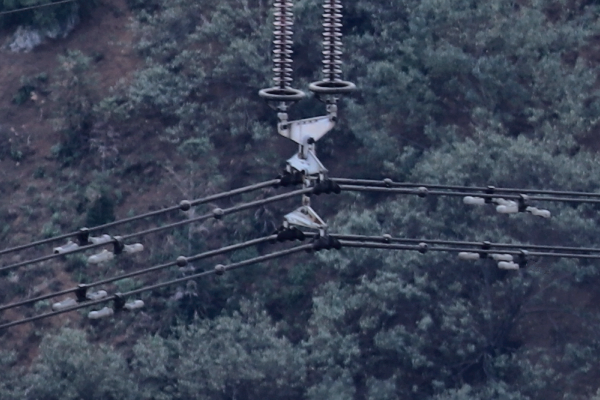damper: (50, 224, 111, 255), (86, 292, 146, 323), (87, 234, 144, 266), (52, 280, 107, 313), (494, 192, 551, 219), (457, 239, 514, 263), (461, 182, 517, 206)
damper_defect: (499, 249, 531, 272)
